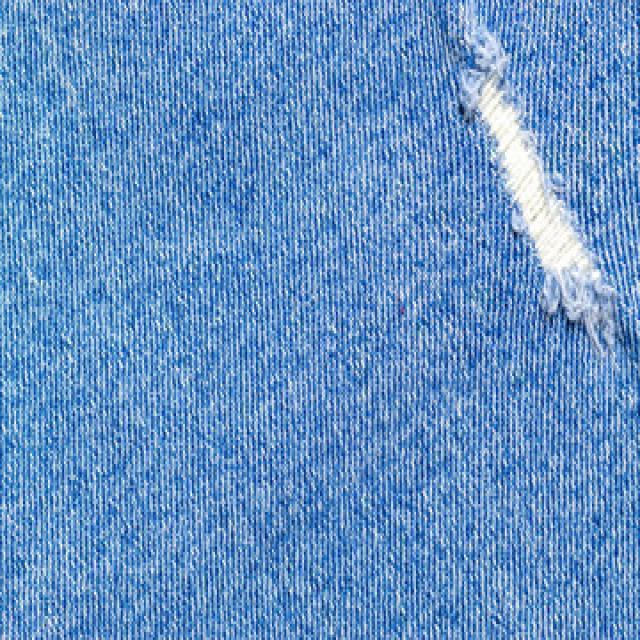Hole: (448, 0, 622, 352)
